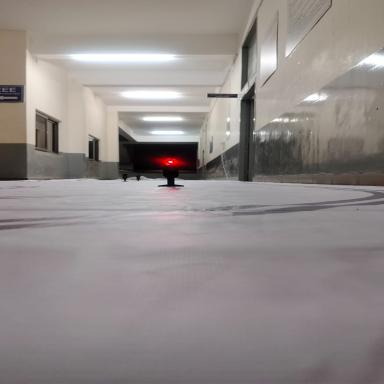traffic red: (150, 150, 210, 196)
